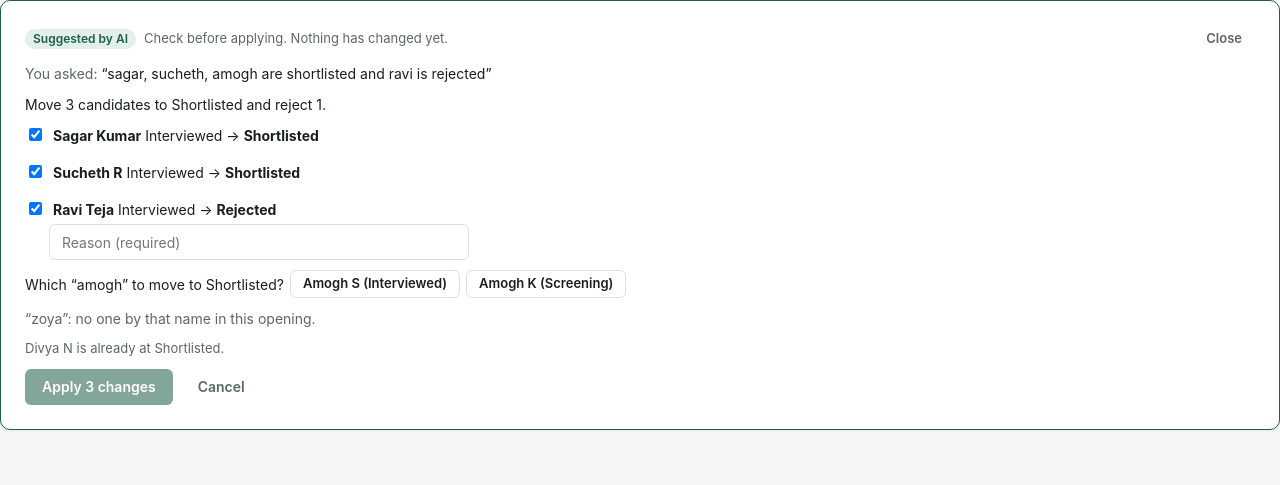
AssistantPlanCard › is labelled as AI, asks for missing reasons and applies only what is ticked
This screenshot has width=1280, height=485.
Check: the text "Suggested by AI" is shown, box [25,29,136,49]
Check: the text "Check before applying. Nothing has changed yet." is shown, box [144,29,448,49]
Click the button "Amogh K (Screening)" at (546, 284), box [466,270,626,298]
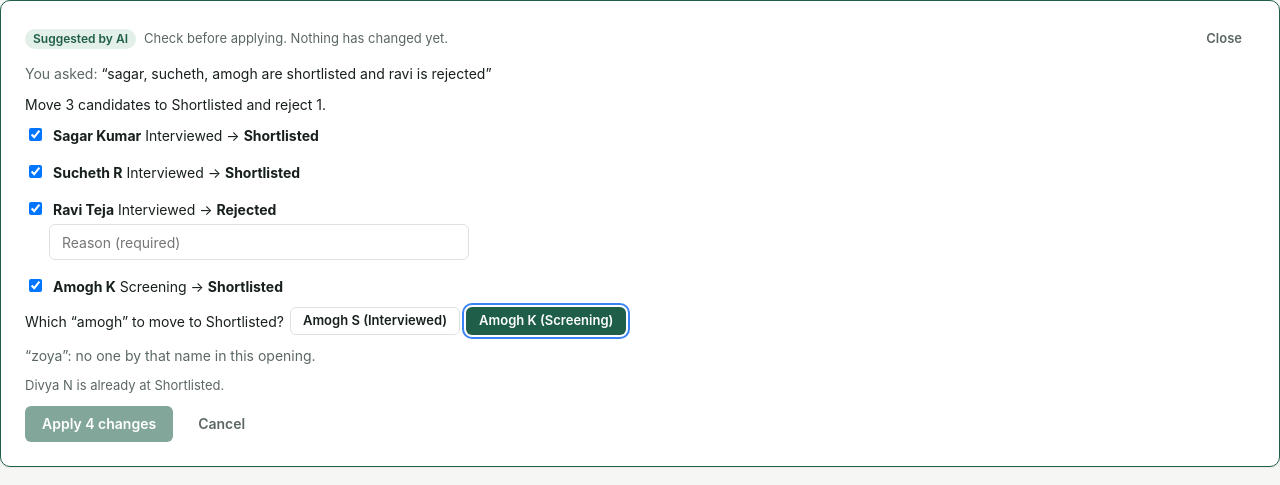
Check: the button "Apply 4 changes" is disabled, box [25,406,173,442]
Type "Weak in React" into the field named "Reason for Ravi Teja" at (259, 242), box [49,224,469,260]
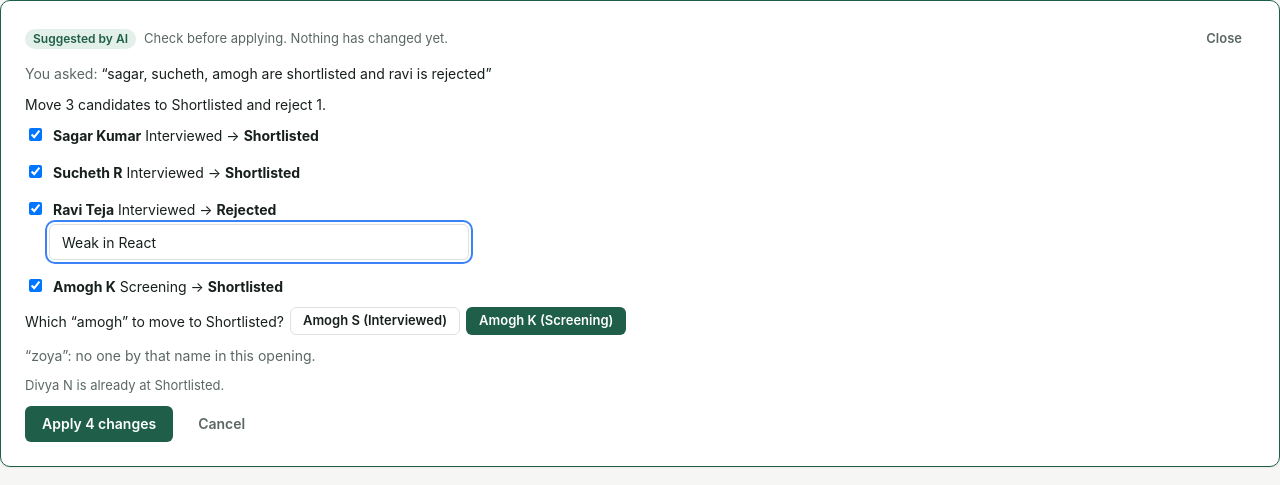
Click the checkbox labelled "Sucheth R Interviewed → Shortlisted" at (36, 172), box [29,165,42,178]
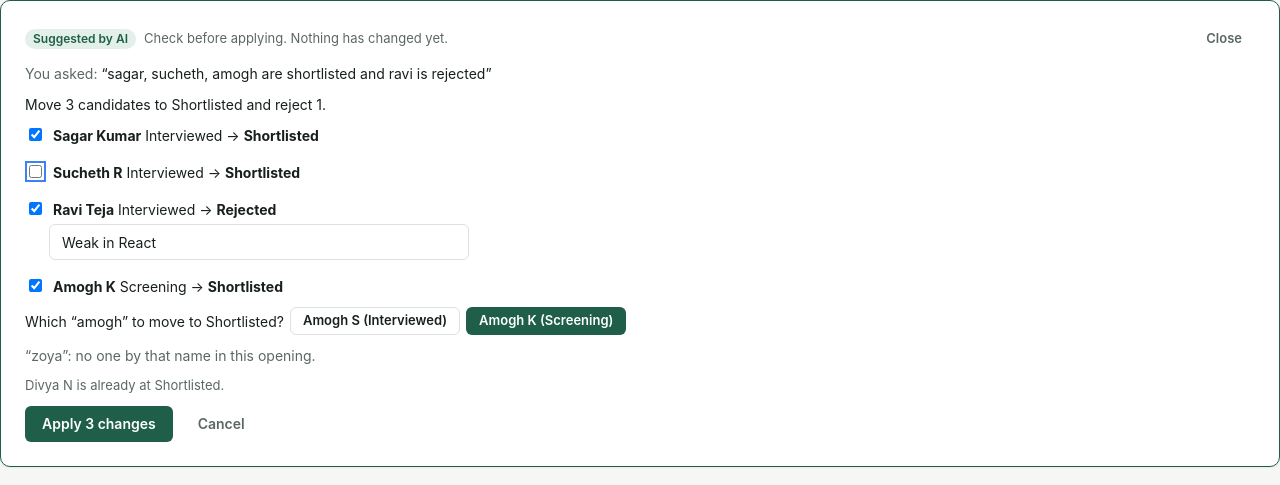
Click the button "Apply 3 changes" at (99, 424), box [25,406,173,442]
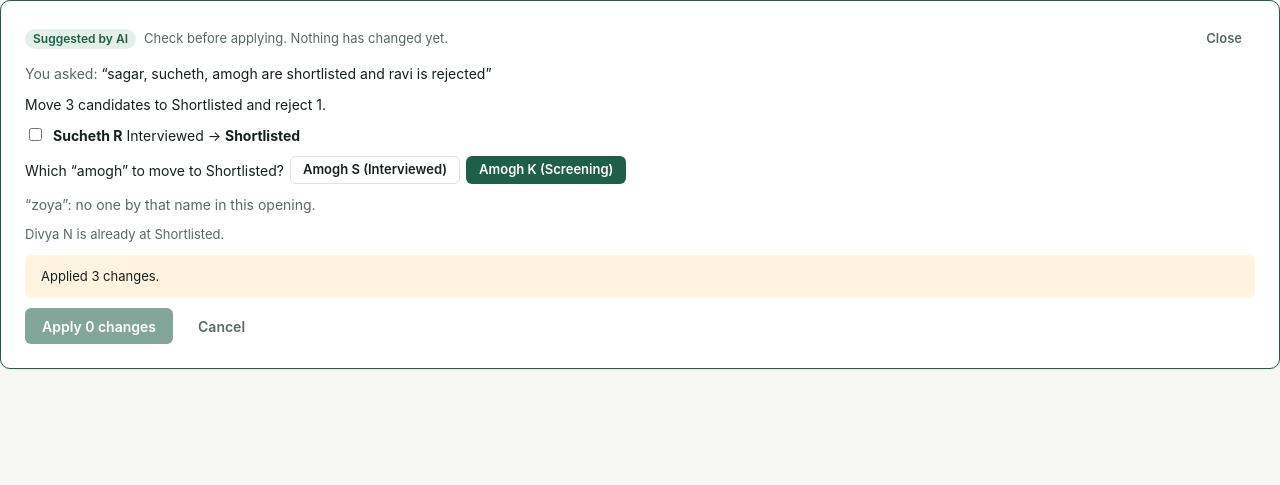
Check: the text "Applied 3 changes." is shown, box [25,254,1255,298]
